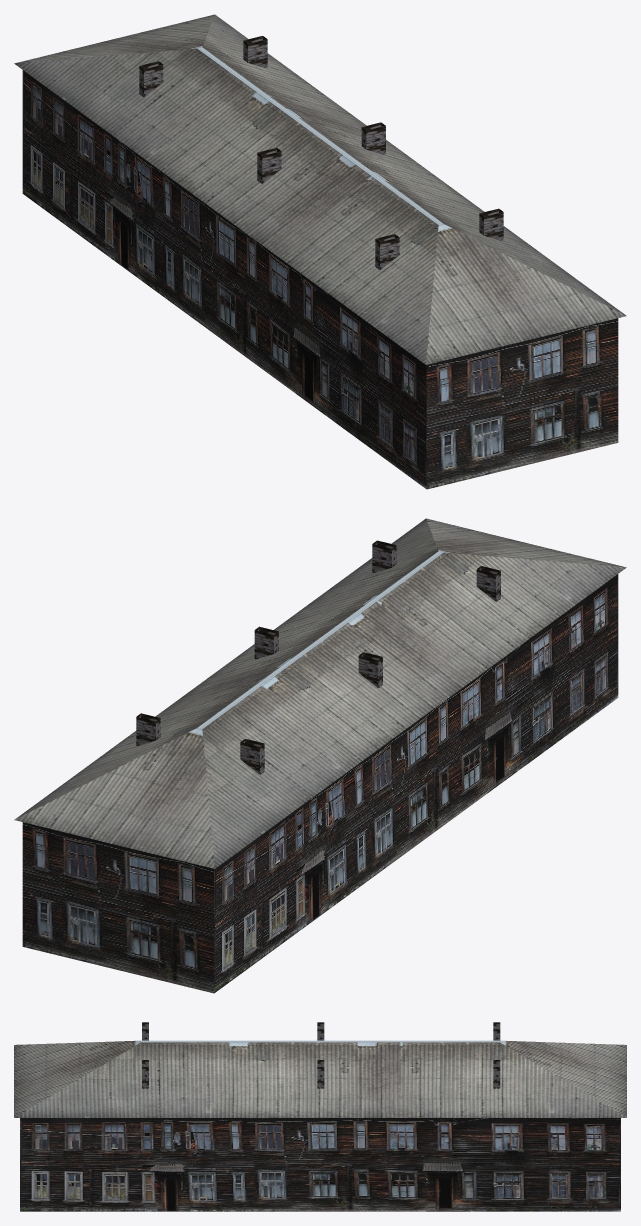
Rendered from building_1.glb.
The picture shows the model from 3 angles, top to bottom: view 1: azimuth 30°, elevation 25°; view 2: azimuth 150°, elevation 25°; view 3: azimuth 270°, elevation 25°; orthographic projection. The views are drawn at different scales.
Parts seen in each view (by area): view 1: Box002, Box001, Box008, Box006, Box003, Box004, Box005, Box007; view 2: Box002, Box001, Box003, Box008, Box006, Box007, Box004, Box005; view 3: Box001, Box002.
Boxes of the visible parts, box(x1,y1,x2,y2) form: Box002: box(14, 14, 626, 364); Box001: box(22, 70, 618, 489); Box008: box(257, 148, 281, 183); Box006: box(375, 234, 399, 269); Box003: box(139, 61, 163, 97); Box004: box(243, 36, 267, 68); Box005: box(479, 208, 503, 241); Box007: box(361, 122, 385, 154); Box002: box(14, 518, 626, 868); Box001: box(22, 574, 618, 993); Box003: box(240, 738, 264, 774); Box008: box(358, 652, 382, 688); Box006: box(476, 566, 500, 601); Box007: box(254, 626, 278, 659); Box004: box(136, 713, 160, 745); Box005: box(372, 540, 396, 572); Box001: box(20, 1118, 620, 1211); Box002: box(14, 1040, 626, 1117).
Bounding box in the file's own units: 9.81 × 8.5 × 34.85.
Materials: 1 (1 with a texture image).
